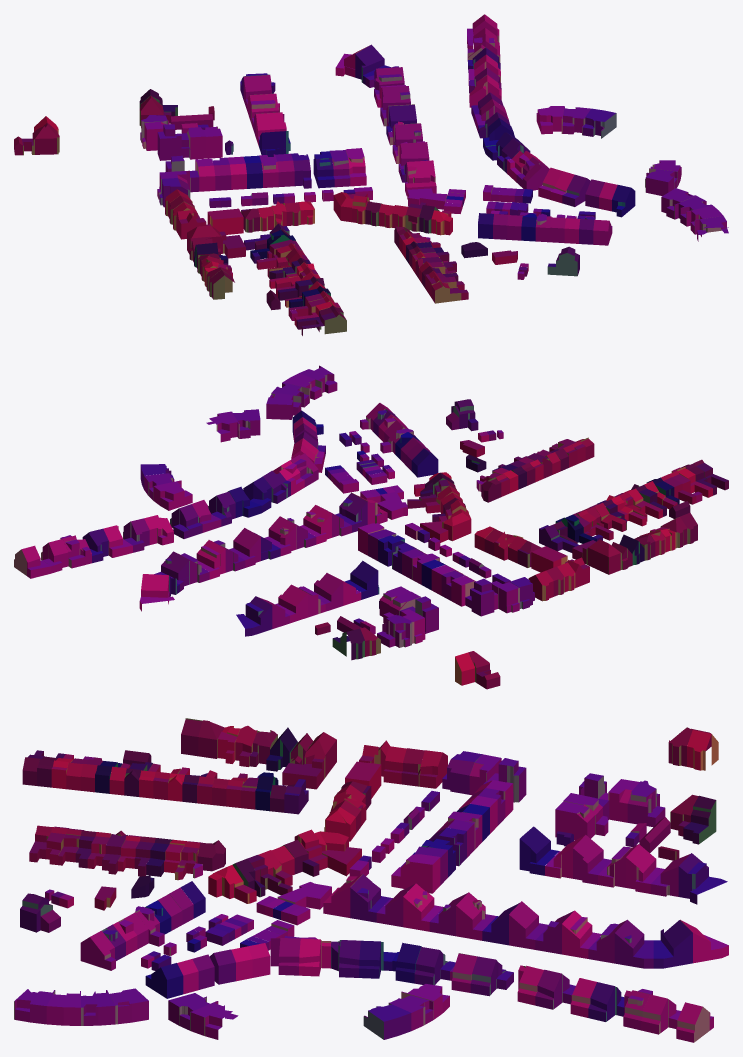
The model's file is buildings_12_8.glb.
The picture shows the model from 3 angles, top to bottom: view 1: azimuth 30°, elevation 25°; view 2: azimuth 150°, elevation 25°; view 3: azimuth 270°, elevation 25°; orthographic projection. The views are drawn at different scales.
Parts seen in each view (by area): view 1: buildings_12_8; view 2: buildings_12_8; view 3: buildings_12_8.
Part boxes in pixels (<box>): buildings_12_8: <box>14,14,728,335</box>; buildings_12_8: <box>14,365,728,689</box>; buildings_12_8: <box>14,718,728,1042</box>.
Bounding box in the file's own units: 210 × 11.99 × 210.
